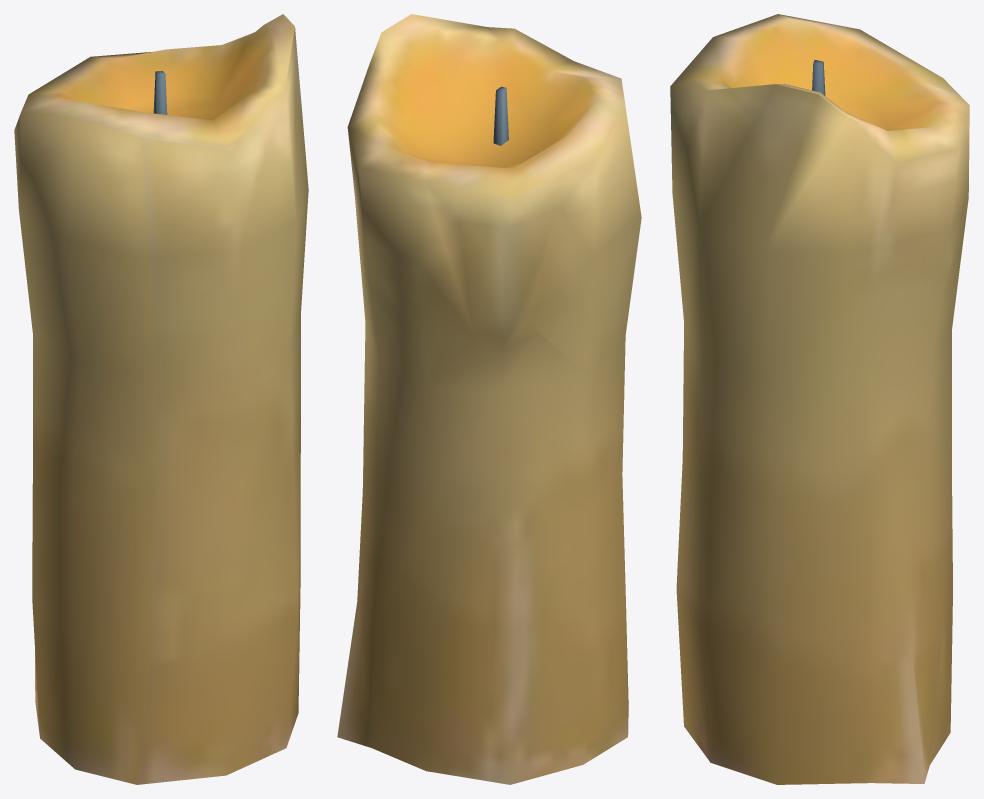
File: candle-2.glb
3 renders of one model, left to right at view 1: azimuth 30°, elevation 25°; view 2: azimuth 150°, elevation 25°; view 3: azimuth 270°, elevation 25°, orthographic. The views are drawn at different scales.
Parts seen in each view (by area): view 1: Candle_2; view 2: Candle_2; view 3: Candle_2.
Boxes of the visible parts, left/top/right/bottom form: Candle_2: left=14, top=14, right=308, bottom=784; Candle_2: left=337, top=14, right=641, bottom=784; Candle_2: left=670, top=14, right=969, bottom=784.
Size of the model in its own units: 0.0944 by 0.2511 by 0.0975.
Materials: 1 (1 with a texture image).
